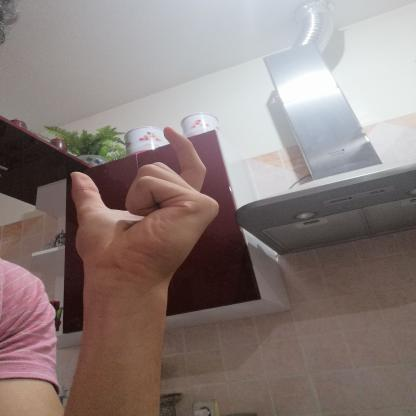NOON: (54, 114, 232, 297)
